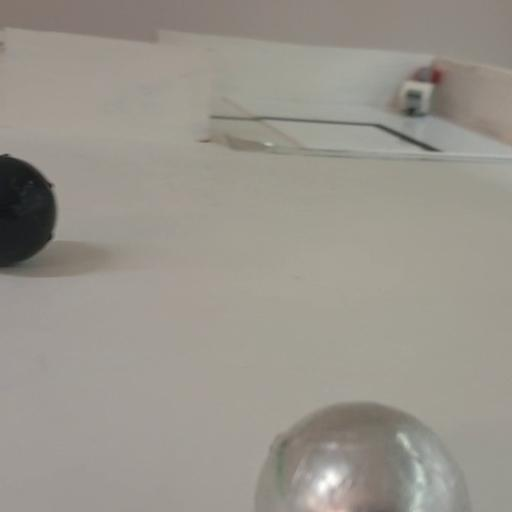alive: (250, 402, 474, 512)
dead: (0, 150, 58, 270)
